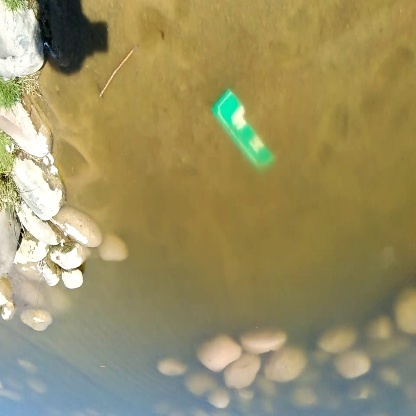plastic-garbage: (209, 87, 284, 172)
